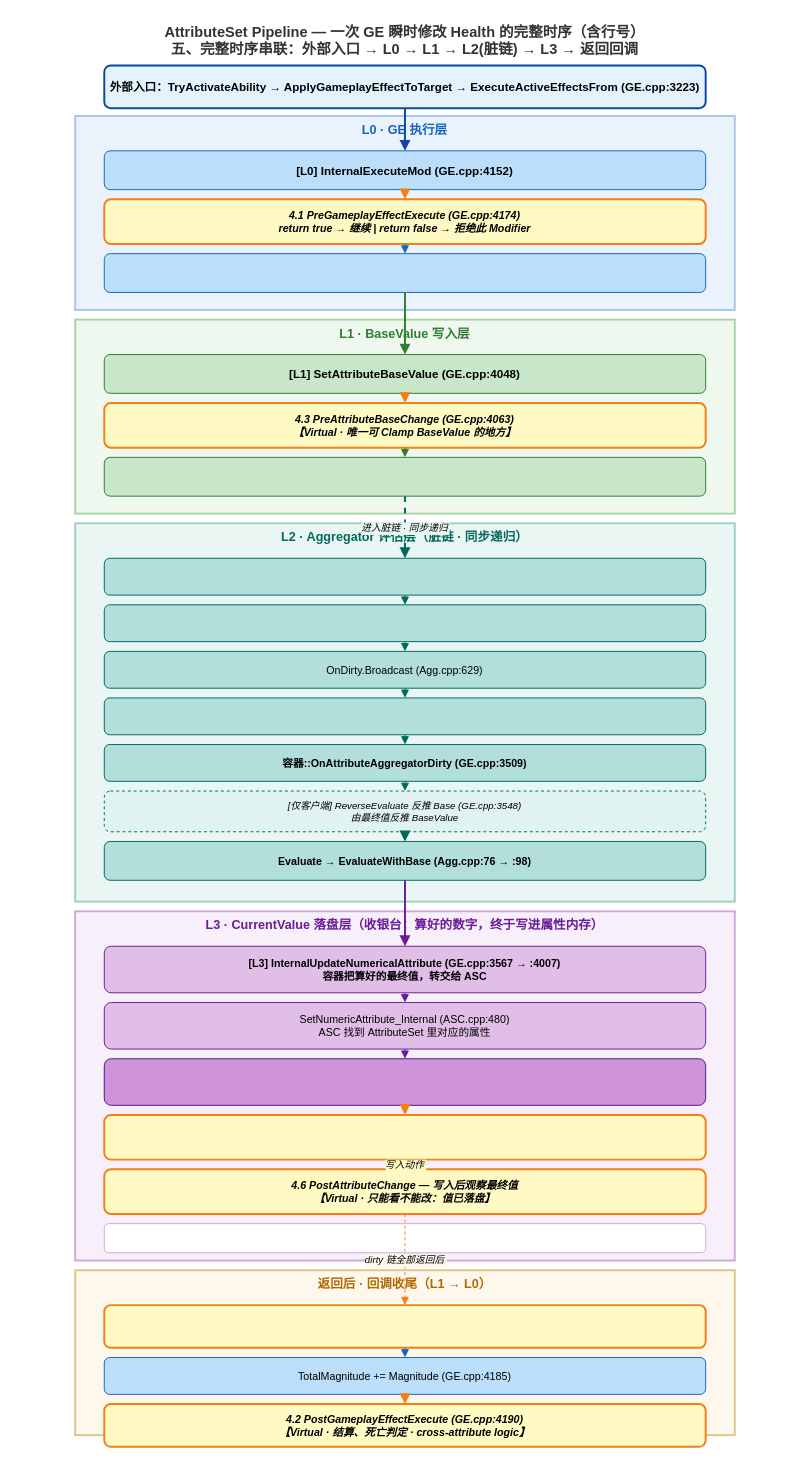
Some shapes in this 809 by 1464 pixel diagram are drawn without their labels. The centre of each missing label's shape, as x and y in pixels:
4.4 PostAttributeBaseChange (GE.cpp:4101) 等 dirty 链全部返回后才执行 → 看到的一定是最终 BaseValue: the point at 404,1326
4.5 PreAttributeChange — 写入前最后一道闸门 【Virtual · 还能拦一道：可 Clamp CurrentValue】: the point at 404,1137
[L2] FAggregator::SetBaseValue (Agg.cpp:438): the point at 404,576
Aggregator->SetBaseValue (GE.cpp:4093): the point at 404,476
ApplyModToAttribute (GE.cpp:4177): the point at 404,272
ASC::OnAttributeAggregatorDirty (ASC.cpp:2189): the point at 404,716
BroadcastOnDirty (Agg.cpp:443 → :585): the point at 404,623
SetNumericValueChecked (AttributeSet.cpp:72) 【落盘】数值终于真正写进属性内存: the point at 404,1081
白话版：L3 = 收银台。L2 算好的数字传到这，才真正被写进属性。写之前 2.3.5 还能拦一道（Clamp），写之后 2.3.6 只能看不能改。: the point at 404,1238
